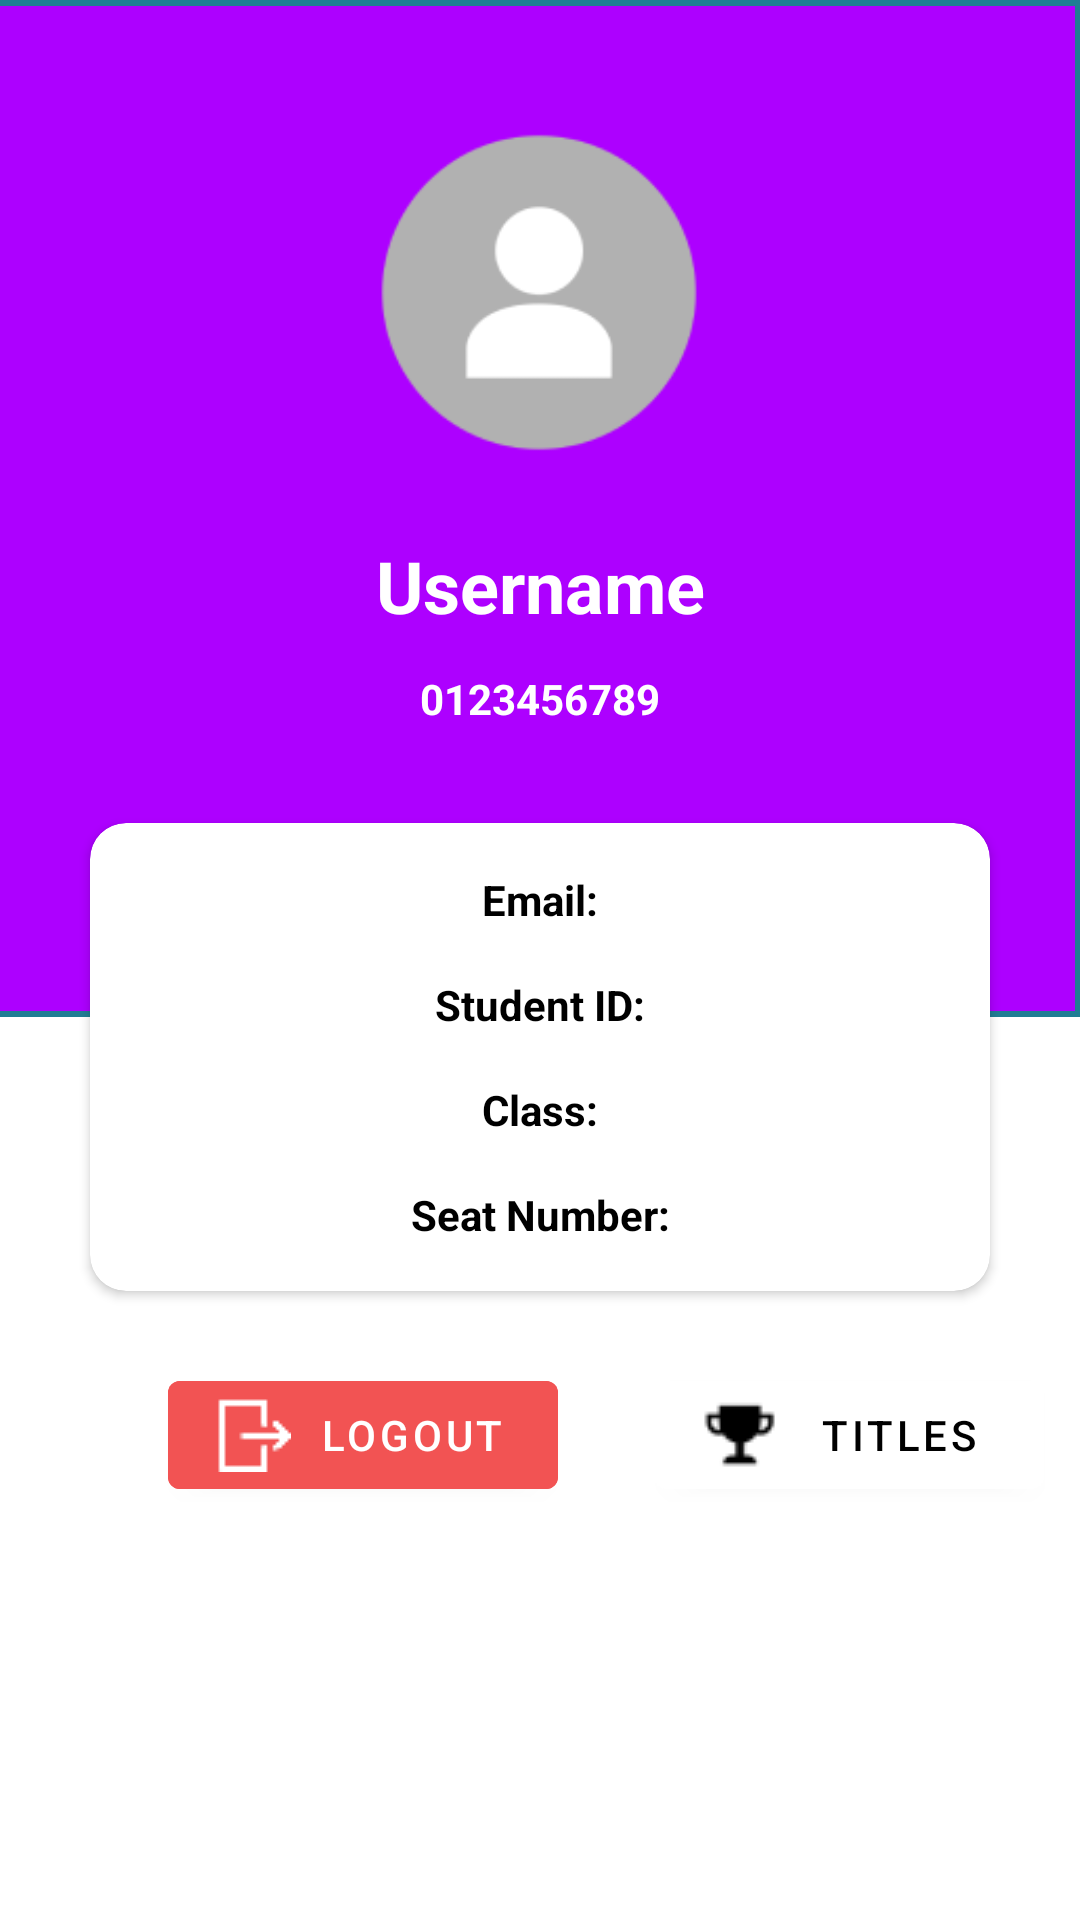

Locate icon controls on the screen. Image size 1080px×1920px, boxes as (x1, y1, x2, y2).
generic profile picture: (381, 135, 697, 450)
